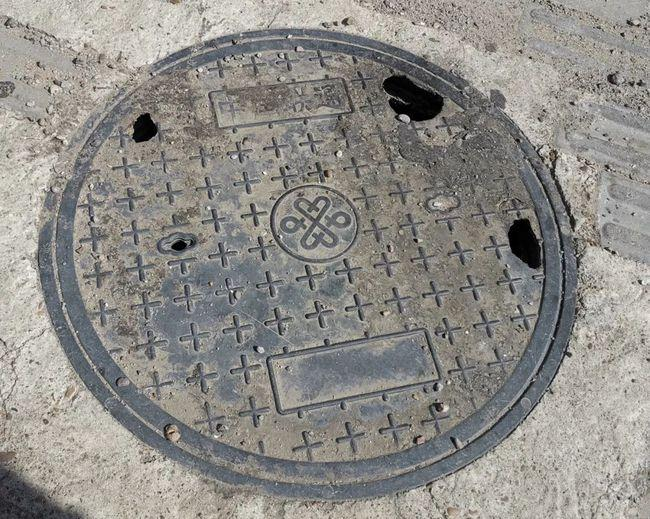wellcover: (59, 27, 566, 507)
